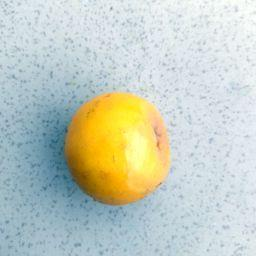Unripe: (67, 93, 168, 203)
